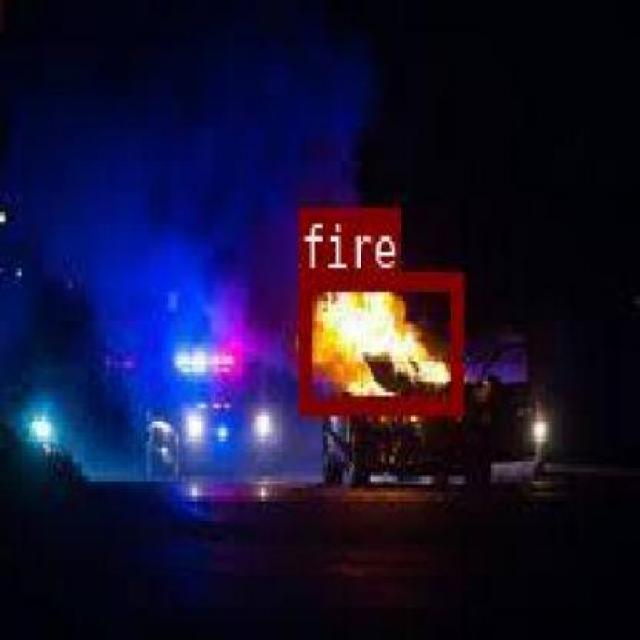Fire: (298, 270, 460, 412)
